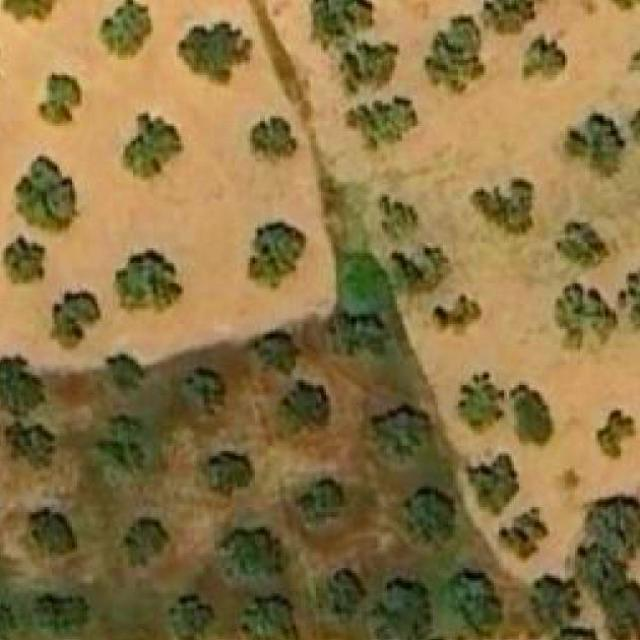Tree: (177, 20, 253, 86), (14, 154, 78, 232), (554, 278, 620, 349), (426, 18, 486, 94), (115, 248, 184, 314), (565, 114, 626, 178), (395, 245, 461, 304), (348, 96, 418, 150), (577, 494, 640, 554), (123, 114, 182, 178), (468, 182, 532, 241), (397, 492, 458, 548), (98, 0, 154, 60), (453, 369, 509, 428), (448, 571, 499, 635), (382, 578, 433, 640), (250, 220, 304, 278), (98, 414, 146, 479), (572, 548, 629, 602), (196, 451, 255, 500), (468, 456, 517, 515), (338, 41, 397, 90), (331, 310, 387, 360), (248, 116, 299, 170), (278, 380, 329, 434), (554, 220, 606, 272), (480, 0, 550, 38), (514, 383, 555, 447), (6, 420, 57, 470), (37, 70, 82, 126), (314, 0, 370, 45), (0, 356, 42, 416), (375, 407, 426, 456), (34, 596, 89, 640), (123, 517, 172, 566), (4, 232, 50, 284), (244, 593, 294, 640), (228, 530, 278, 576), (522, 31, 568, 80), (182, 364, 225, 416), (28, 510, 78, 554), (529, 576, 575, 622), (595, 408, 634, 462), (319, 573, 360, 624), (55, 294, 100, 339), (169, 593, 212, 640), (379, 195, 417, 241), (605, 591, 640, 640), (501, 517, 539, 561), (432, 294, 482, 327), (255, 331, 296, 370), (108, 355, 146, 395), (301, 480, 339, 520), (1, 0, 60, 24), (550, 626, 595, 640), (0, 600, 16, 639)
